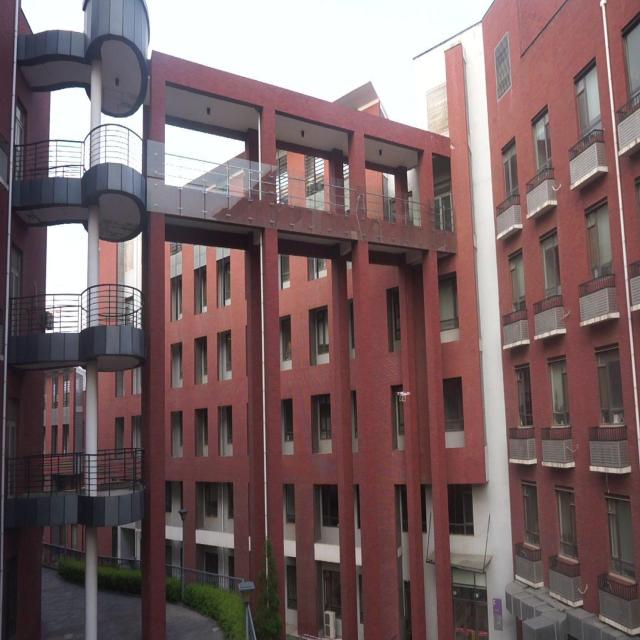UAV: (397, 392, 411, 401)
